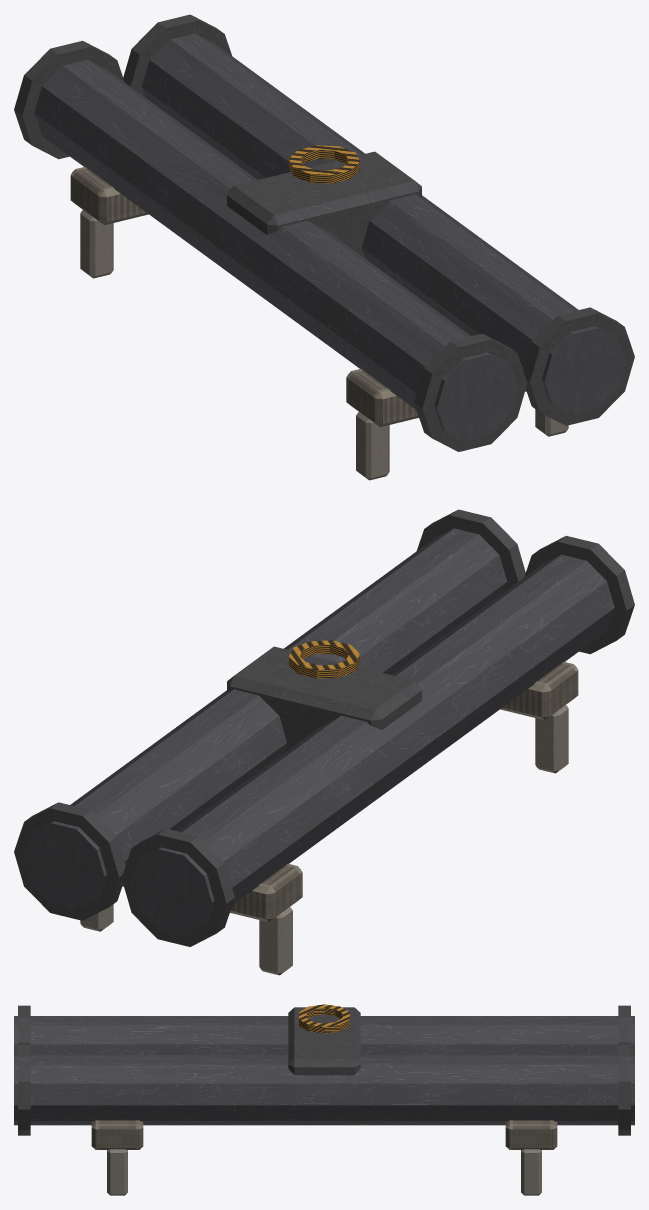
File: pipeline_seg.obj
The picture shows the model from 3 angles, top to bottom: view 1: azimuth 30°, elevation 25°; view 2: azimuth 150°, elevation 25°; view 3: azimuth 270°, elevation 25°; orthographic projection. The views are drawn at different scales.
Visible parts, largest first — view 1: pipeline_seg; view 2: pipeline_seg; view 3: pipeline_seg.
Boxes of the visible parts, x1,y1,x2,y2 form: pipeline_seg: [14, 14, 634, 480]; pipeline_seg: [14, 509, 634, 975]; pipeline_seg: [14, 1004, 634, 1195].
Bounding box in the file's own units: 1.78 × 1.53 × 6.
Materials: 1 (1 with a texture image).
